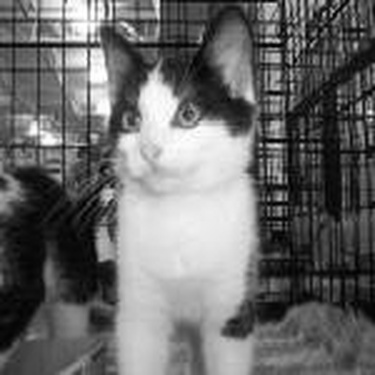cat: (98, 5, 259, 372)
